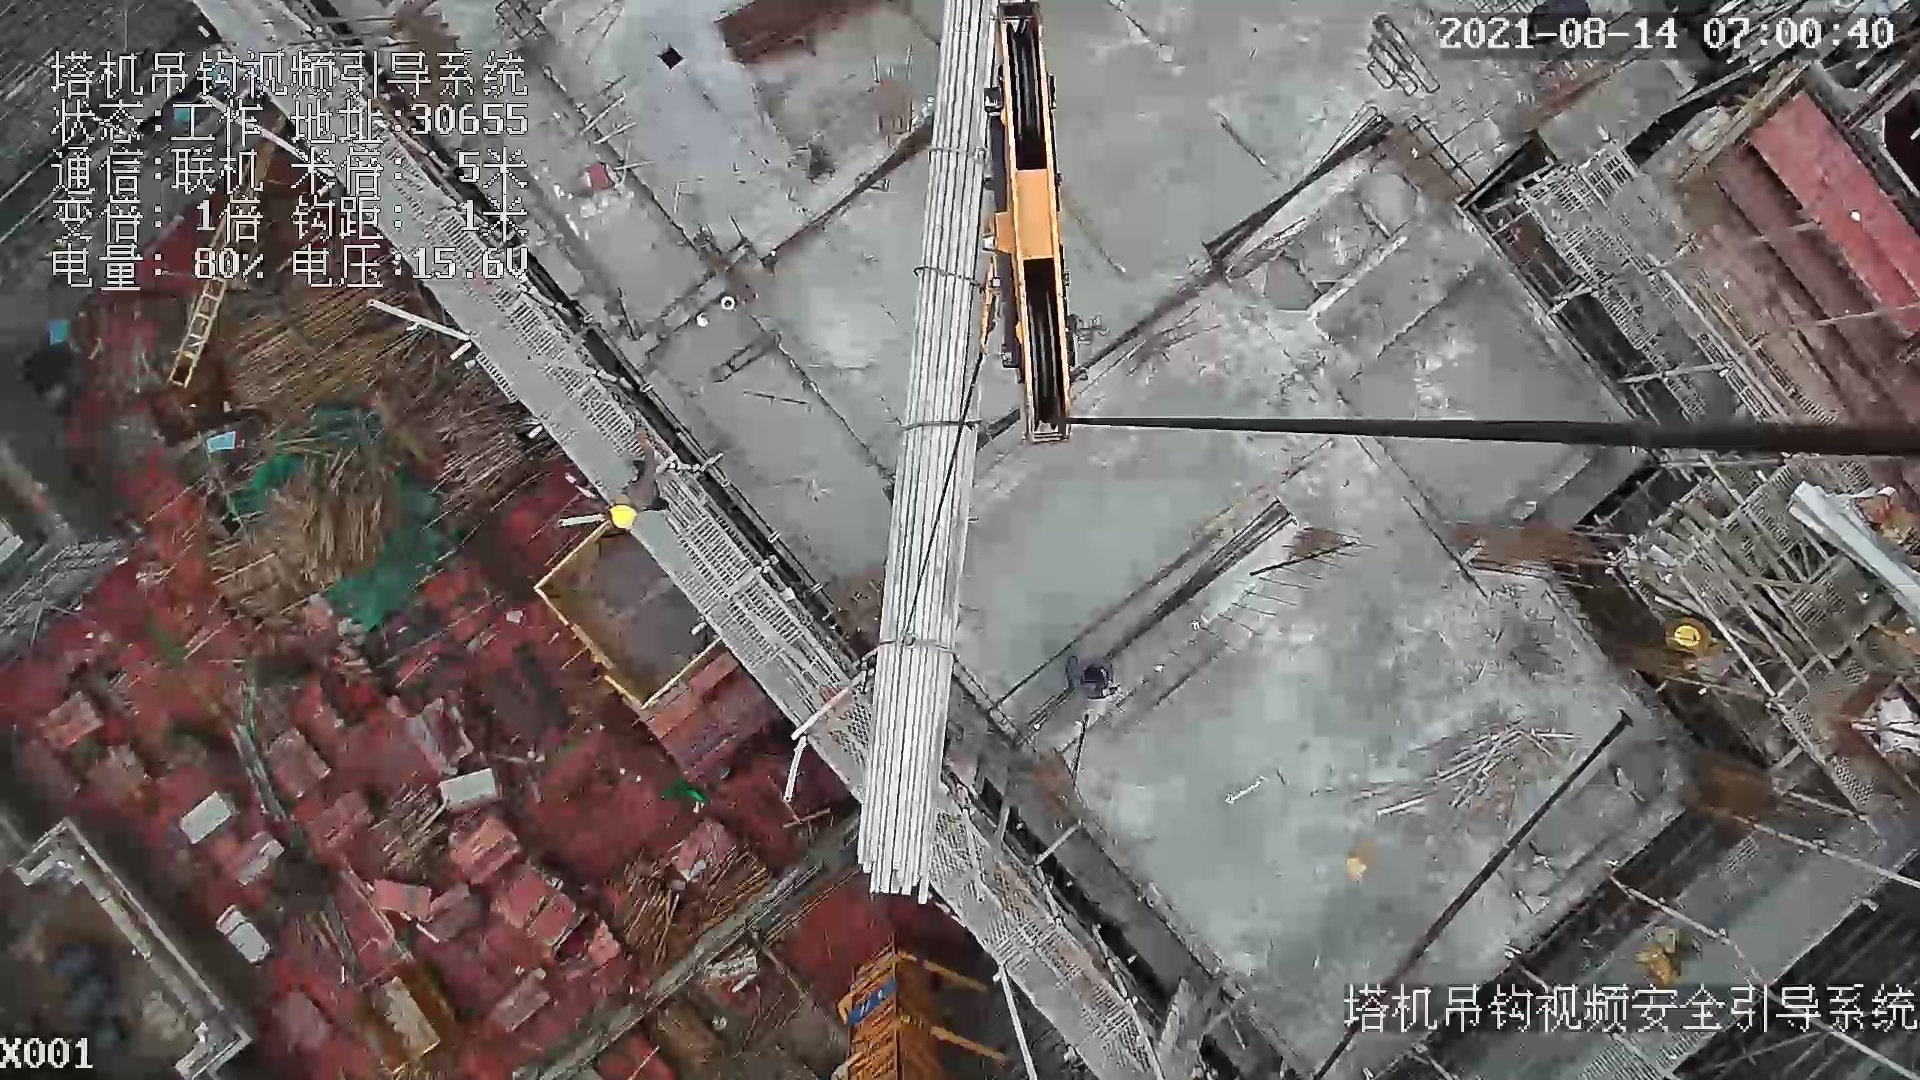helmet: (606, 496, 649, 543)
hook: (960, 1, 1088, 447)
person: (599, 422, 674, 532), (1070, 658, 1127, 701)
